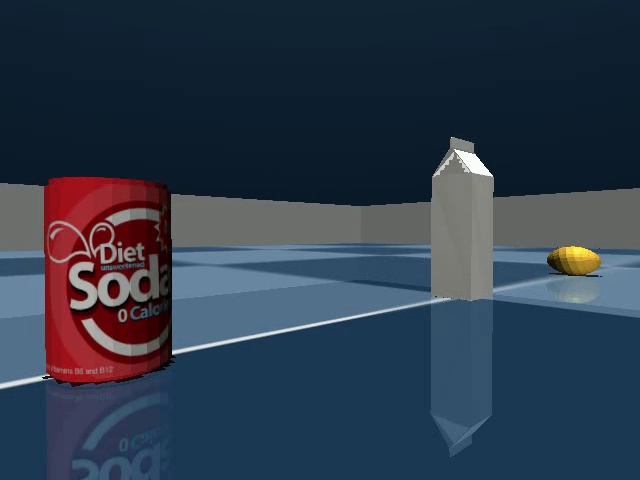can: (34, 167, 185, 395)
lemon: (543, 242, 606, 280)
milk: (420, 128, 507, 314)
